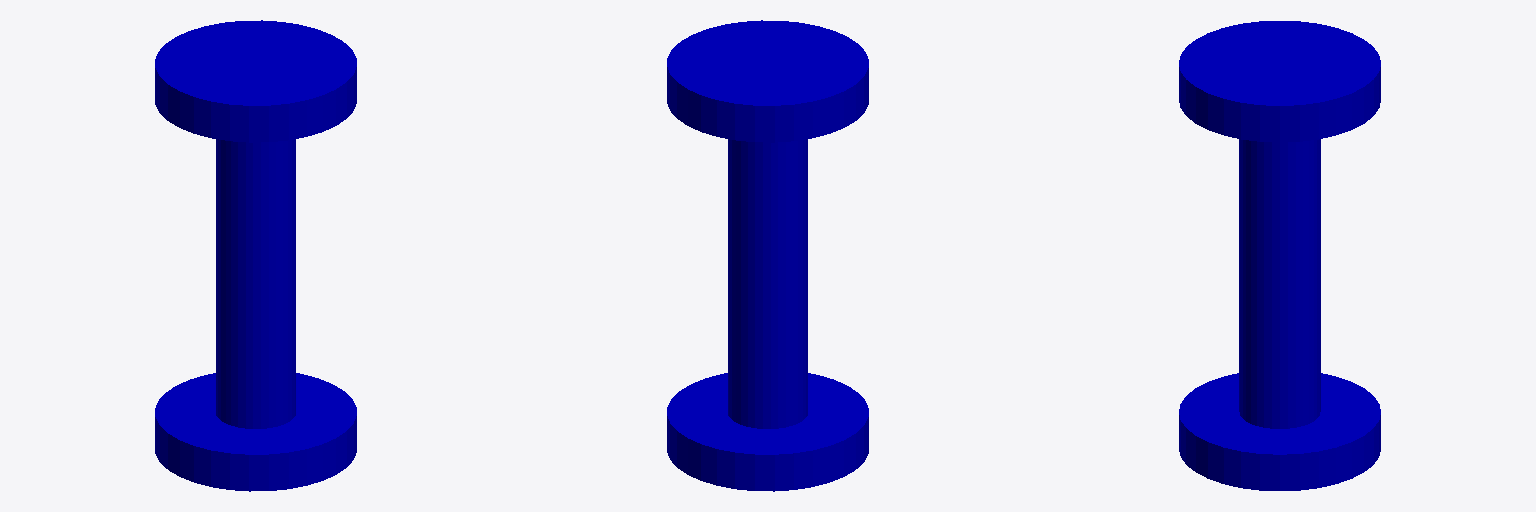
URDF robot description (physics):
<?xml version="1.0"?>
<robot name="physics">
  <link name="base_link">
    <visual>
      <geometry>
        <cylinder length="0.02" radius="0.05"/>
      </geometry>
      <material name="blue">
        <color rgba="0 0 .8 1"/>
      </material>
    </visual>
    <collision>
      <geometry>
        <cylinder length="0.02" radius="0.05"/>
      </geometry>
    </collision>
    <inertial>
      <mass value="0.01"/>
      <inertia ixx="0.000002" ixy="0.0" ixz="0.0" iyy="0.000002" iyz="0.0" izz="0.000002"/>
    </inertial>
  </link>

  <link name="grasp_cylinder">
    <visual>
      <geometry>
        <cylinder length="0.18" radius="0.02"/>
      </geometry>
      <material name="blue">
        <color rgba="0 0 .8 1"/>
      </material>
    </visual>
    <collision>
      <geometry>
        <cylinder length="0.12" radius="0.01"/>
      </geometry>
    </collision>
    <inertial>
      <mass value="0.01"/>
      <inertia ixx="0.000002" ixy="0.0" ixz="0.0" iyy="0.000002" iyz="0.0" izz="0.000002"/>
    </inertial>
  </link>

  <joint name="jfixed1" type="fixed">
    <parent link="base_link"/>
    <child link="grasp_cylinder"/>
    <origin xyz="0 0 0.09"/>
  </joint>


  <link name="top_cylinder">
    <visual>
      <geometry>
        <cylinder length="0.02" radius="0.05"/>
      </geometry>
      <material name="blue">
        <color rgba="0 0 .8 1"/>
      </material>
    </visual>
    <collision>
      <geometry>
        <cylinder length="0.02" radius="0.05"/>
      </geometry>
    </collision>
    <inertial>
      <mass value="0.01"/>
      <inertia ixx="0.000002" ixy="0.0" ixz="0.0" iyy="0.000002" iyz="0.0" izz="0.000002"/>
    </inertial>
  </link>

  <joint name="jfixed2" type="fixed">
    <parent link="grasp_cylinder"/>
    <child link="top_cylinder"/>
    <origin xyz="0 0 0.1"/>
  </joint>

  <link name="pizza_stuff">
    <contact>
      <lateral_friction value="1.0"/>
      <rolling_friction value="0.0"/>
      <contact_cfm value="0.0"/>
      <contact_erp value="1.0"/>
    </contact>
    <inertial>
      <origin rpy="0 0 1.57" xyz="0.0 0.02 0.0"/>
       <mass value=".001"/>
       <inertia ixx="1e-9" ixy="0" ixz="0" iyy="1e-9" iyz="0" izz="1e-9"/>
    </inertial>
    <visual>
      <origin rpy="0 0 -1.57" xyz="0 0 0.07"/>
      <geometry>
        <mesh filename="pizzatexturée4.obj" scale=".05 .05 .05"/>
      </geometry>
       <material name="yellow">
        <color rgba="1 1 0.4 1"/>
      </material>
    </visual>
    <collision>
      <origin rpy="0 0 -1.57" xyz="0 0 0.07"/>
      <geometry>
	 	<mesh filename="pizzatexturée4.obj" scale=".05 .05 .05"/>
      </geometry>
    </collision>
  </link>

    <joint name="jfixed_stuff" type="fixed">
    <parent link="top_cylinder"/>
    <child link="pizza_stuff"/>
    <origin rpy="0 0 0" xyz="0 0 0.01"/>
  </joint>


</robot>

--- Render facts (derived) ---
Views: 3 orthographic renders of the robot side by side, from view 1: azimuth 30°, elevation 25°; view 2: azimuth 150°, elevation 25°; view 3: azimuth 270°, elevation 25°.
Model physics with 4 links and 3 joints (3 fixed), rooted at base_link, posed all joints at 0.
Visible links, largest first — view 1: grasp_cylinder, top_cylinder, base_link; view 2: grasp_cylinder, top_cylinder, base_link; view 3: grasp_cylinder, top_cylinder, base_link.
Boxes of the visible links, x1,y1,x2,y2 form: grasp_cylinder: (216,139,295,428); top_cylinder: (155,20,356,142); base_link: (155,373,356,491); grasp_cylinder: (728,139,807,428); top_cylinder: (667,20,868,142); base_link: (667,373,868,491); grasp_cylinder: (1239,139,1320,428); top_cylinder: (1179,21,1380,142); base_link: (1179,373,1380,490).
Bounding box of the posed robot: 0.1 × 0.1 × 0.21 m (x, y, z).
0 mesh visuals loaded from 1 distinct referenced files (none loaded); not drawn: 1 (reference not matched to a file when rendering).